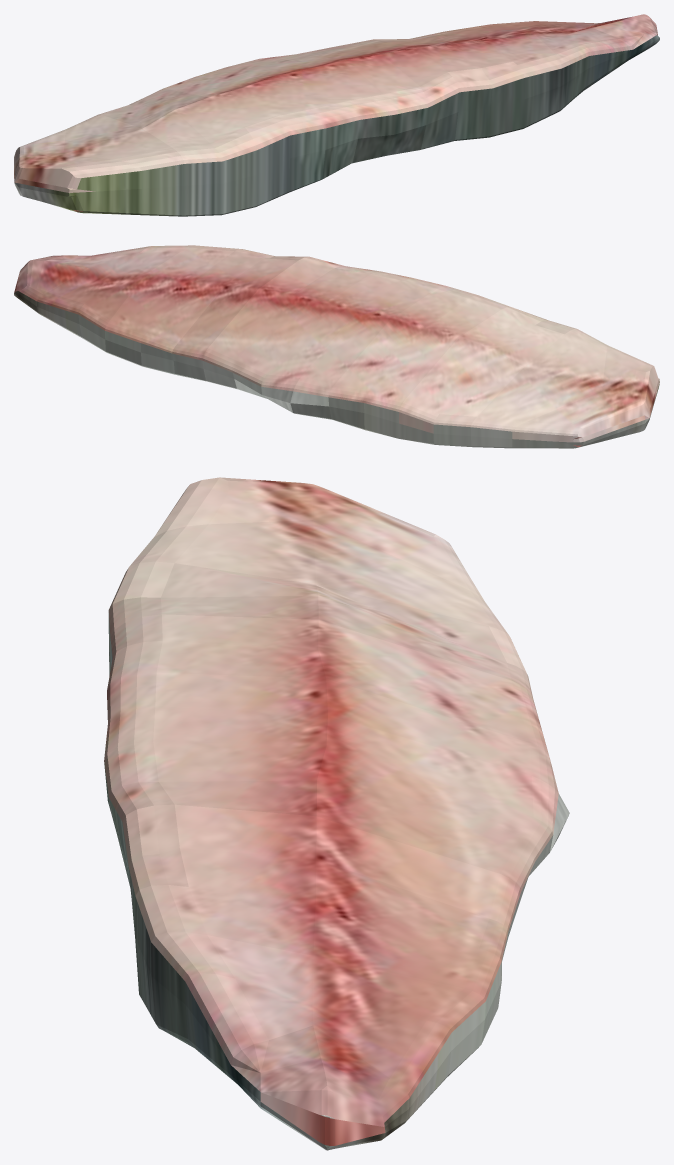
Rendered from _ilish.fbx.
The picture shows the model from 3 angles, top to bottom: view 1: azimuth 30°, elevation 25°; view 2: azimuth 150°, elevation 25°; view 3: azimuth 270°, elevation 25°; orthographic projection. The views are drawn at different scales.
Parts seen in each view (by area): view 1: Cube.011; view 2: Cube.011; view 3: Cube.011.
Part boxes in pixels (box(x1,y1,x2,y2)): Cube.011: box(14, 14, 659, 216); Cube.011: box(14, 245, 659, 448); Cube.011: box(104, 477, 569, 1150).
Size of the model in its own units: 1240 by 149 by 399.
Materials: 1 (1 with a texture image).
